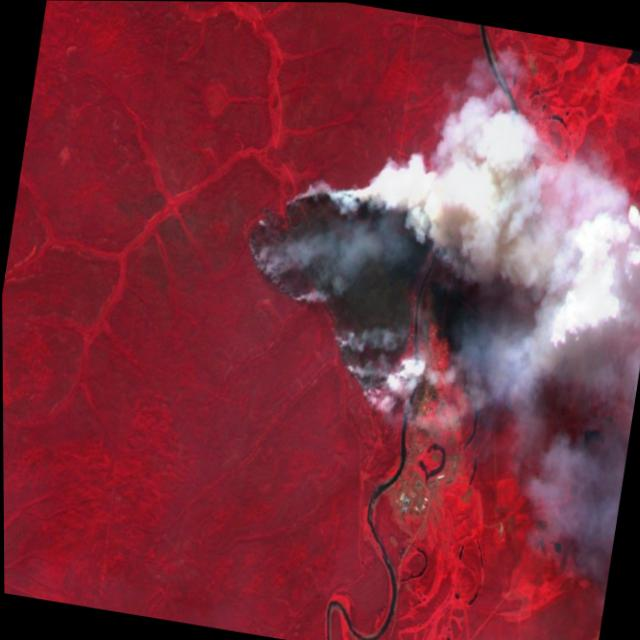fire: (222, 147, 541, 425)
